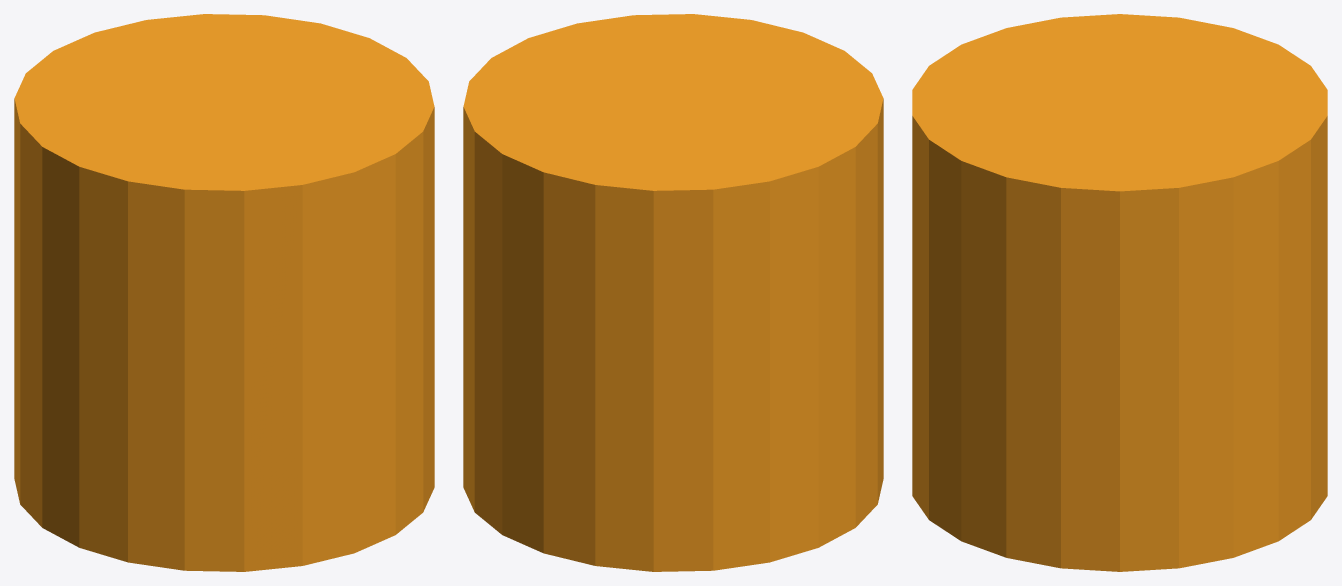
File: SM_Primitive_Cylander_04.fbx
The picture shows the model from 3 angles, left to right: view 1: azimuth 30°, elevation 25°; view 2: azimuth 150°, elevation 25°; view 3: azimuth 270°, elevation 25°; orthographic projection.
Visible parts, largest first — view 1: SM_Primitive_Cylander_04; view 2: SM_Primitive_Cylander_04; view 3: SM_Primitive_Cylander_04.
Boxes of the visible parts, x1=… form: SM_Primitive_Cylander_04: x1=14, y1=14, x2=434, y2=571; SM_Primitive_Cylander_04: x1=463, y1=14, x2=883, y2=571; SM_Primitive_Cylander_04: x1=912, y1=14, x2=1327, y2=571.
Bounding box in the file's own units: 100 × 100 × 98.98.
